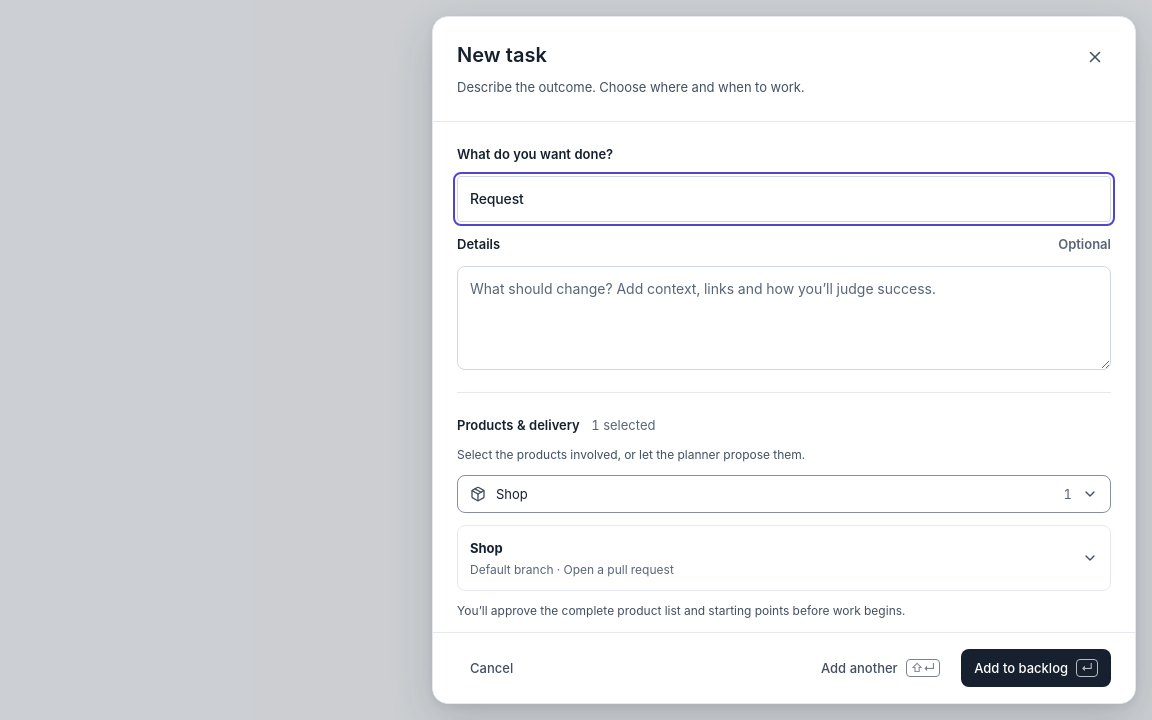
Test: keeps product removal reachable on the first click while its inline picker is open
The width and height of the screenshot is (1152, 720).
Click the heading "Shop Default branch · Open a pull request" at (486, 548), box [470,540,1098,577]
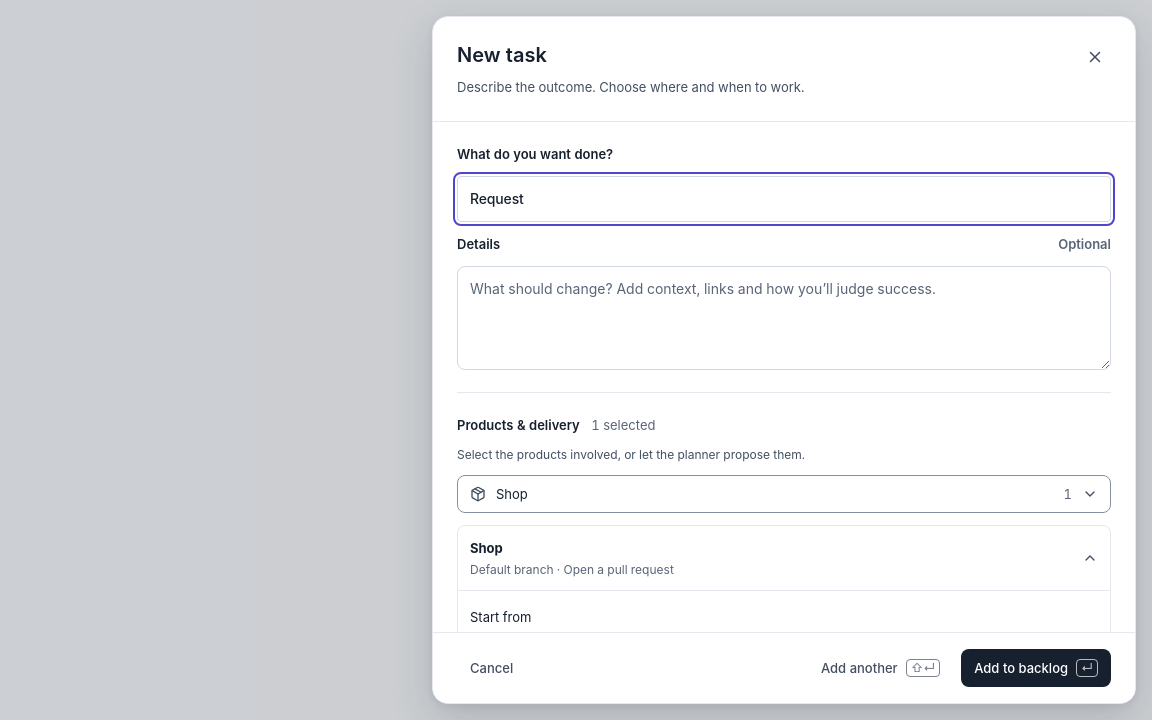
Click the button with aria-label "Choose products" at (512, 494), box [457,475,1111,513]
(page scrolled)
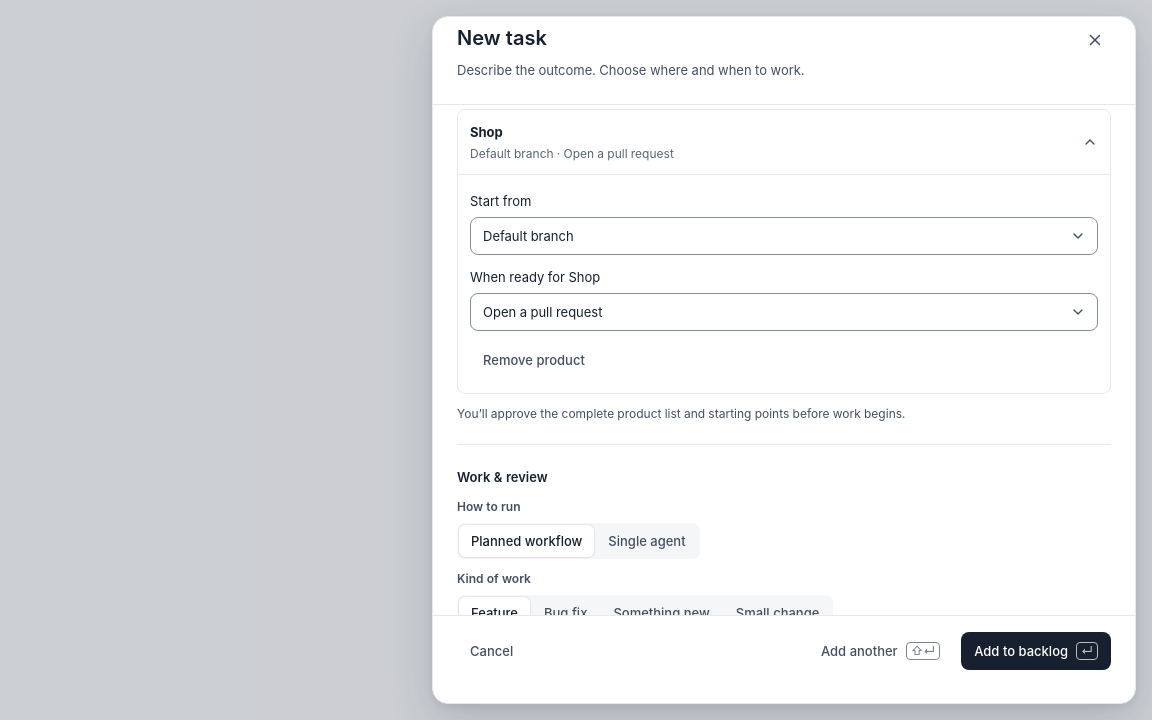
Press the mouse on the button "Remove product" at (534, 360), box [470,343,598,377]
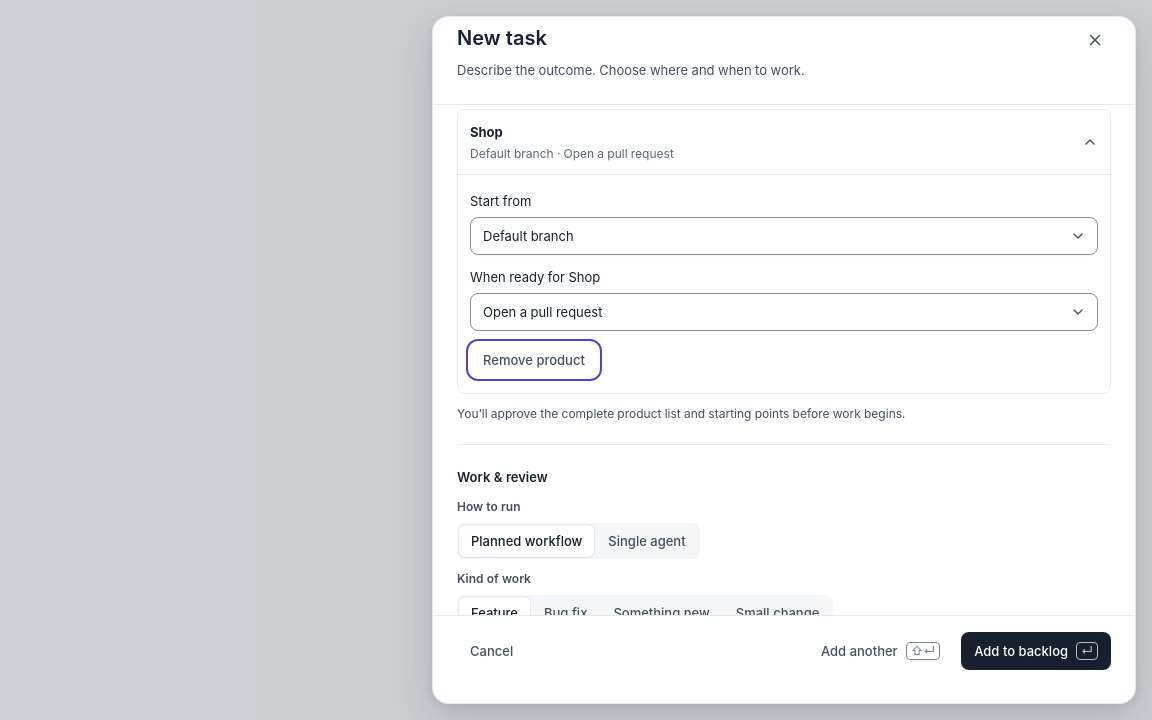
Click the button "Remove product" at (534, 360), box [470,343,598,377]
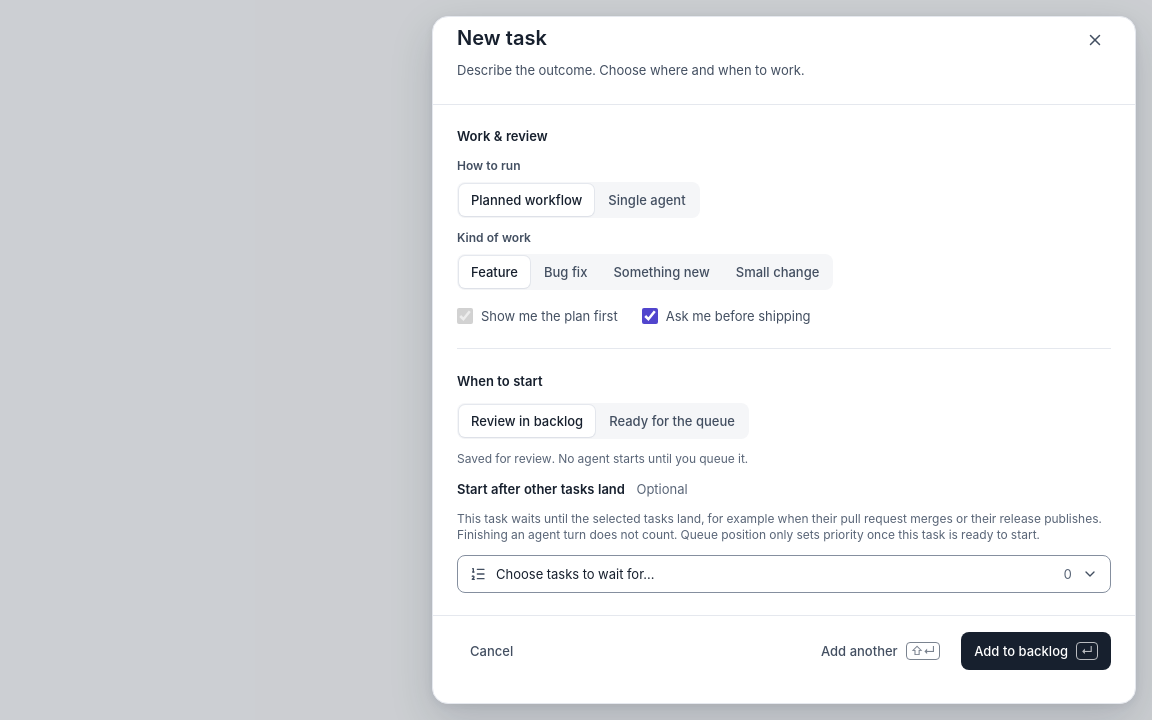
Expected: the element with class "new-task-product-settings" is gone
